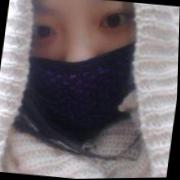WRONG: (13, 1, 152, 135)
